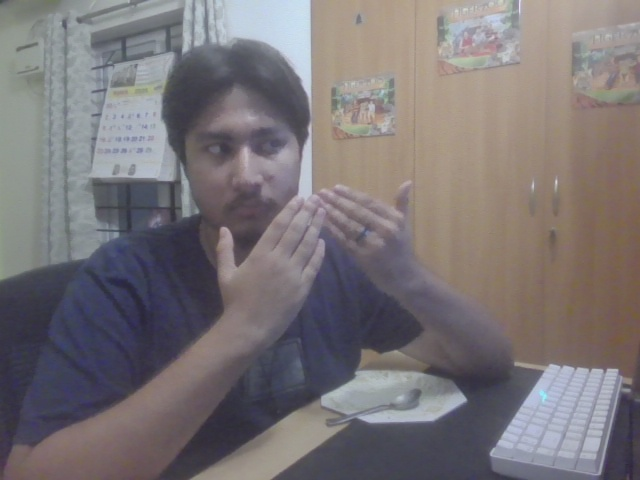thankyou: (208, 179, 430, 336)
